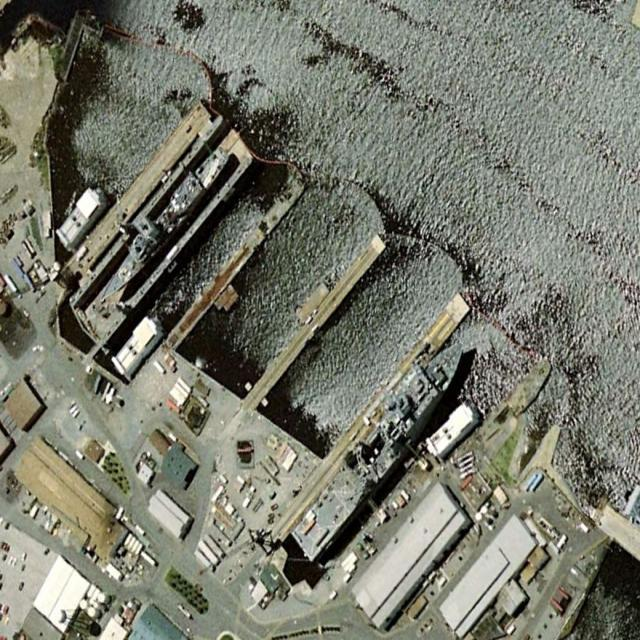Landing: (289, 323, 476, 567)
Other Warship: (91, 139, 237, 310)
